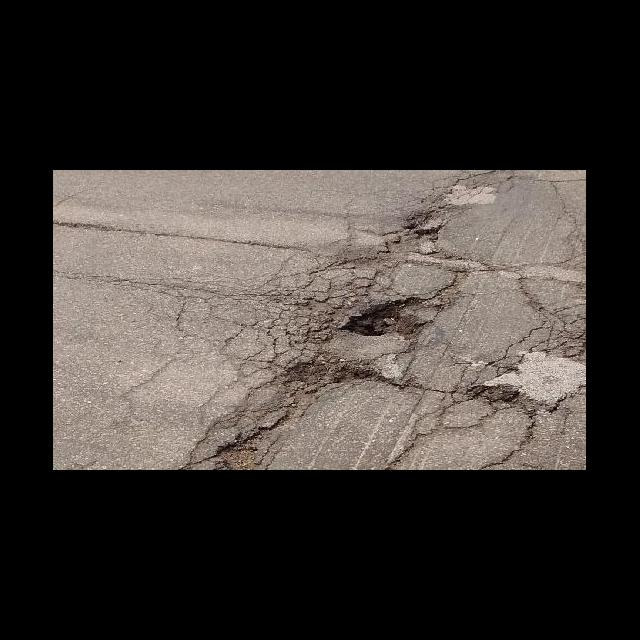lubang_kecil: (343, 284, 430, 354)
retak_kulit_buaya: (212, 278, 316, 369)
